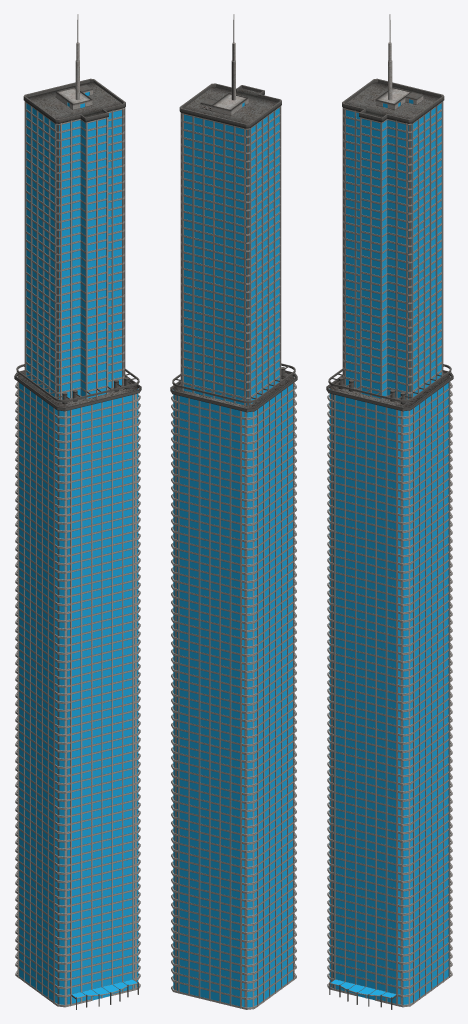
The model's file is tower.glb.
The picture shows the model from 3 angles, left to right: view 1: azimuth 30°, elevation 25°; view 2: azimuth 150°, elevation 25°; view 3: azimuth 330°, elevation 25°; orthographic projection.
Visible parts, largest first — view 1: Object_6, Object_5, Object_4, Object_3; view 2: Object_6, Object_5, Object_4, Object_3; view 3: Object_6, Object_5, Object_4, Object_3.
Boxes of the visible parts, x1,y1,x2,y2 form: Object_6: (19, 92, 138, 1004); Object_5: (17, 14, 137, 1006); Object_4: (15, 382, 140, 1007); Object_3: (14, 78, 141, 1009); Object_6: (173, 102, 292, 1007); Object_5: (174, 14, 294, 1008); Object_4: (171, 383, 296, 1009); Object_3: (170, 83, 297, 962); Object_6: (329, 99, 448, 1004); Object_5: (330, 14, 450, 1005); Object_4: (327, 382, 452, 1007); Object_3: (326, 78, 453, 1009).
Size of the model in its own units: 53.08 by 582 by 62.61.
Materials: 3 (2 with a texture image).
